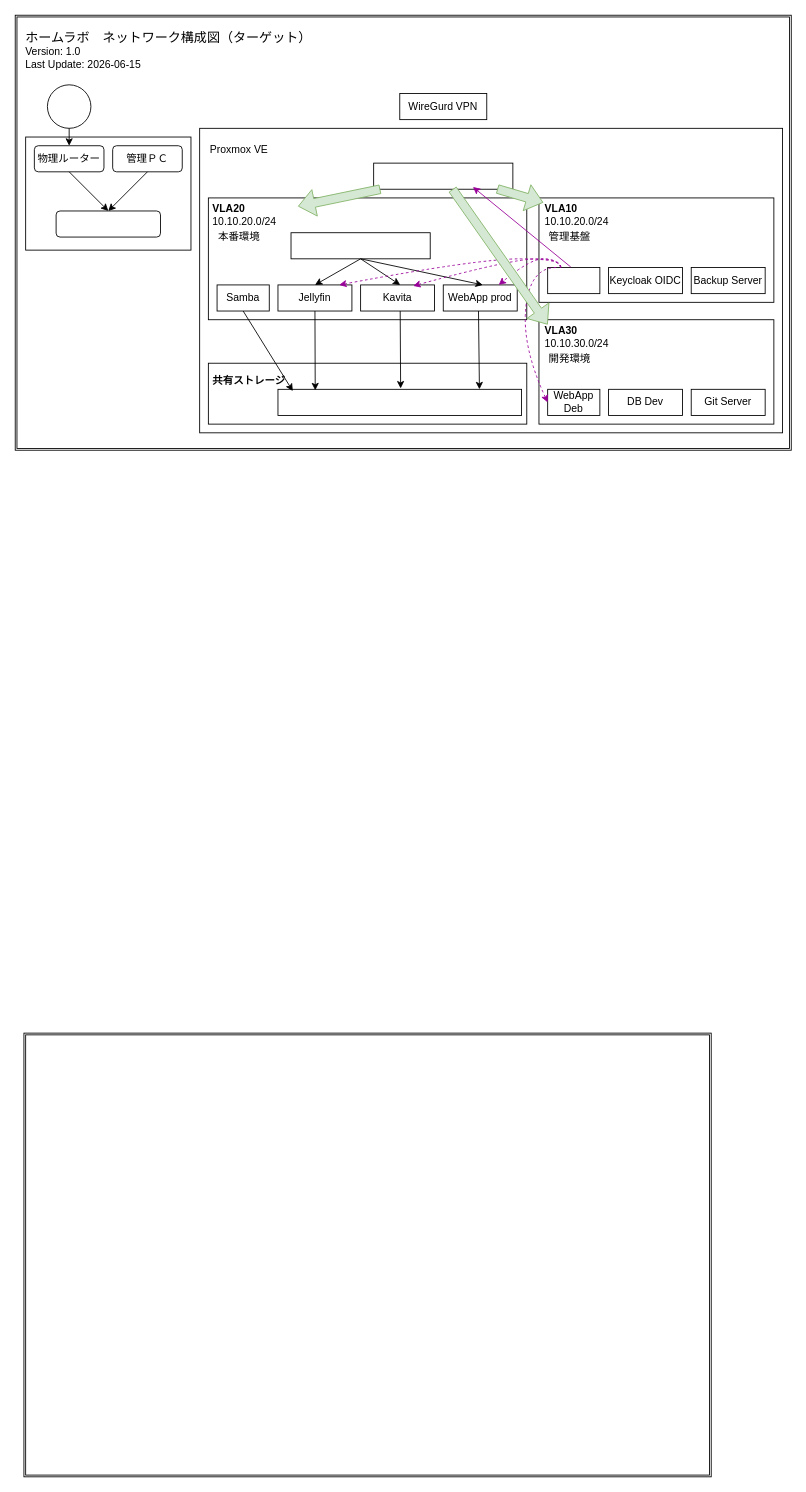
The diagram is 806 pixels wide and 1492 high, and some of its shapes have lost their labels. Each missing label, with the box of its shape:
/mnt/nas (4TB HDD): (277, 388, 522, 415)
Internet: (47, 84, 91, 128)
Nginx Proxy Manager: (290, 232, 430, 259)
OPNsense VM (FW / DHCP / DNS / VPN): (373, 162, 513, 189)
Proxmox Host 192.168.11.100: (55, 210, 161, 237)
Zabbix: (547, 267, 600, 294)
